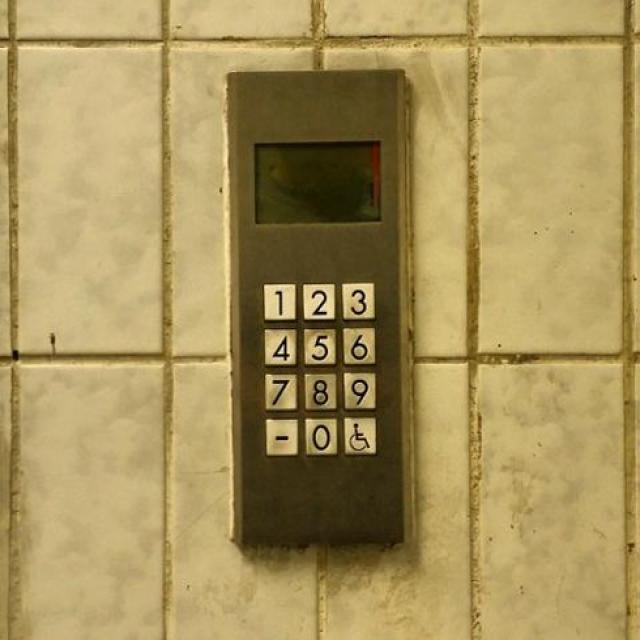-: (262, 416, 298, 455)
0: (303, 414, 338, 454)
1: (260, 281, 296, 319)
2: (300, 281, 334, 320)
3: (339, 281, 374, 319)
4: (261, 326, 298, 366)
5: (302, 327, 336, 365)
6: (340, 325, 376, 364)
7: (262, 371, 298, 409)
8: (302, 371, 337, 409)
9: (341, 369, 376, 408)
CH: (341, 414, 377, 454)
led: (249, 134, 379, 226)
